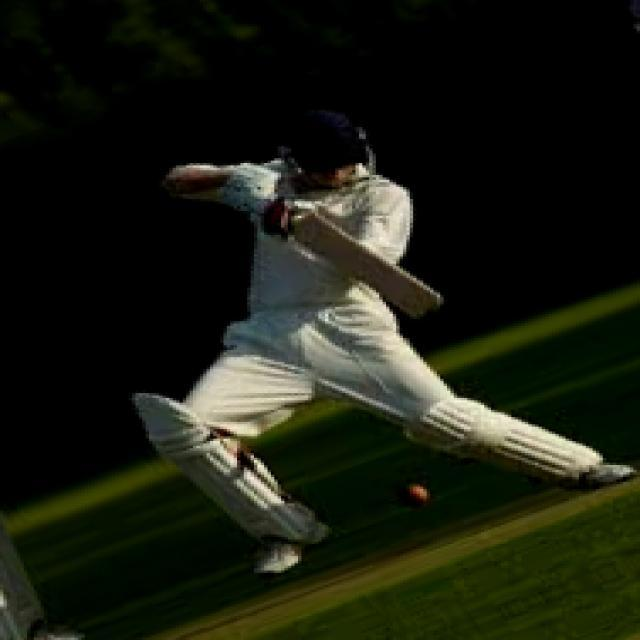bat: (284, 206, 446, 323)
toe: (413, 294, 440, 324)
